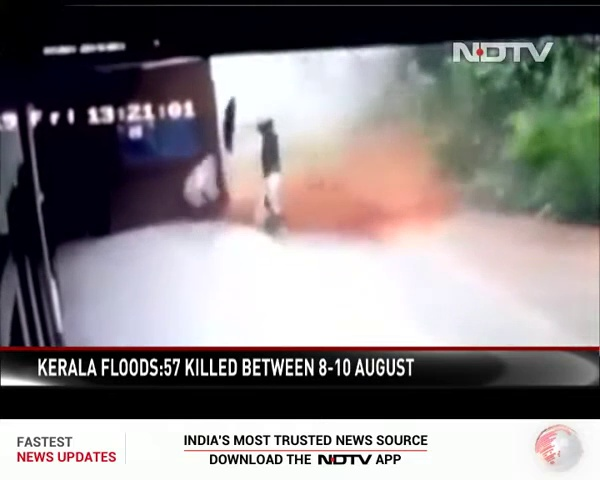person: (253, 118, 288, 236)
